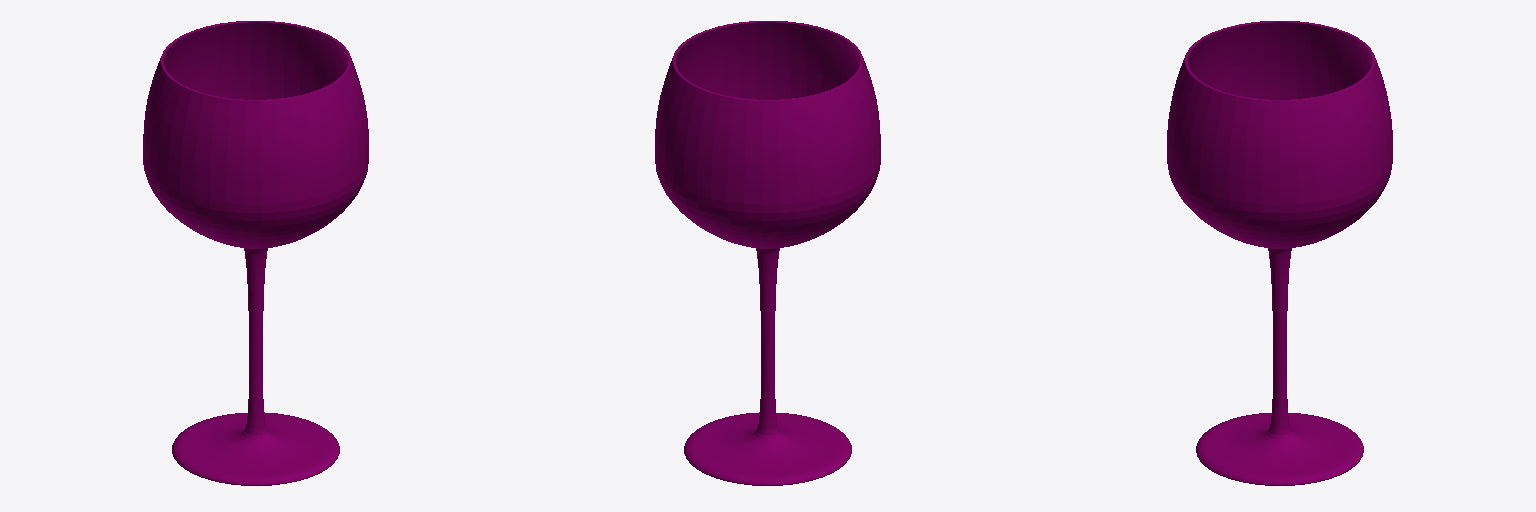
Rendered from WineGlasses.obj.
The picture shows the model from 3 angles: view 1: azimuth 30°, elevation 25°; view 2: azimuth 150°, elevation 25°; view 3: azimuth 270°, elevation 25°; orthographic projection.
Visible parts, largest first — view 1: WineGlass_01; view 2: WineGlass_01; view 3: WineGlass_01.
Boxes of the visible parts, box(x1,y1,x2,y2) form: WineGlass_01: box(143, 21, 368, 485); WineGlass_01: box(655, 21, 880, 485); WineGlass_01: box(1167, 21, 1392, 485).
Size of the model in its own units: 30.48 by 57.99 by 30.48.